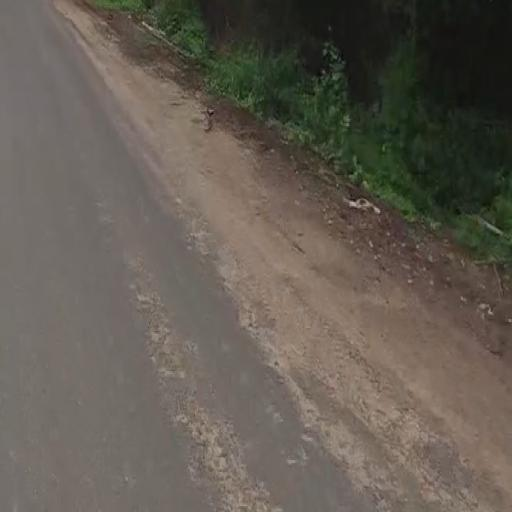edge_damage: (150, 145, 466, 503)
ravelling: (93, 200, 298, 504)
